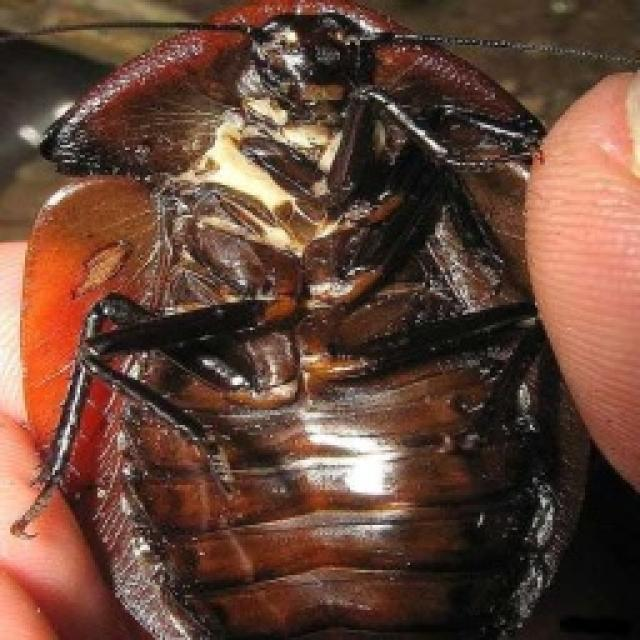cockroach: (10, 3, 597, 637)
